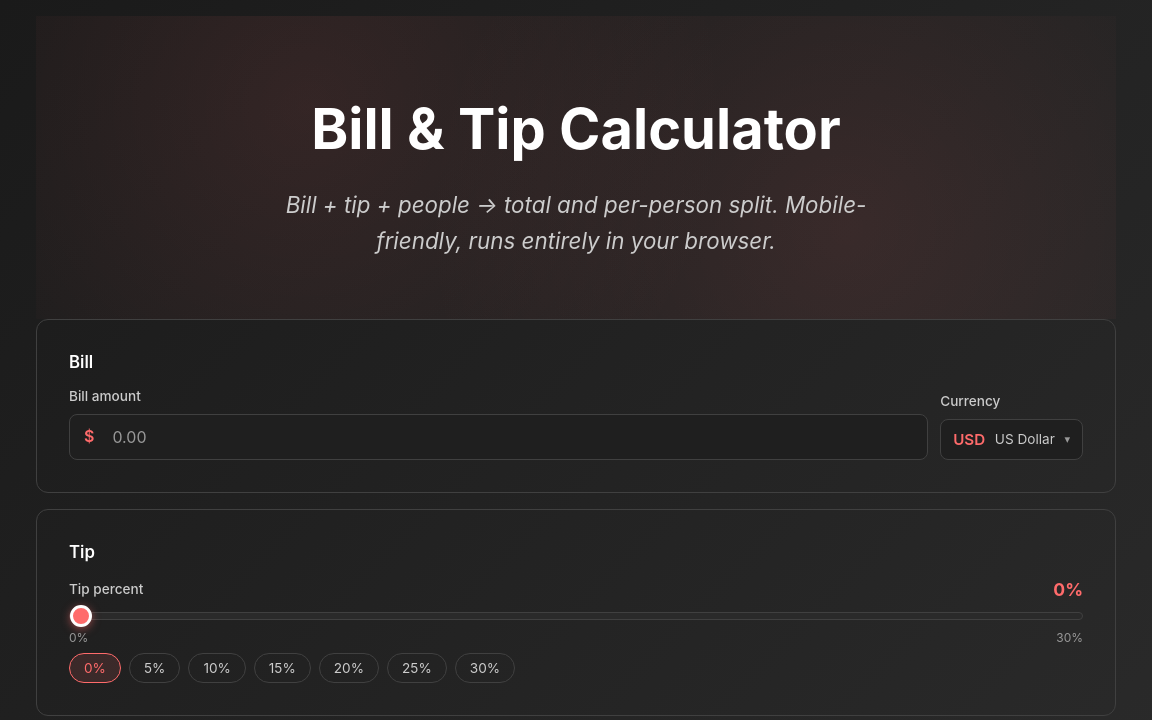
Test: <TipCalculator /> — page render › changing people slider updates per-person amount
Type "100" into the number field labelled "Bill amount" at (513, 437), box [98,415,927,459]
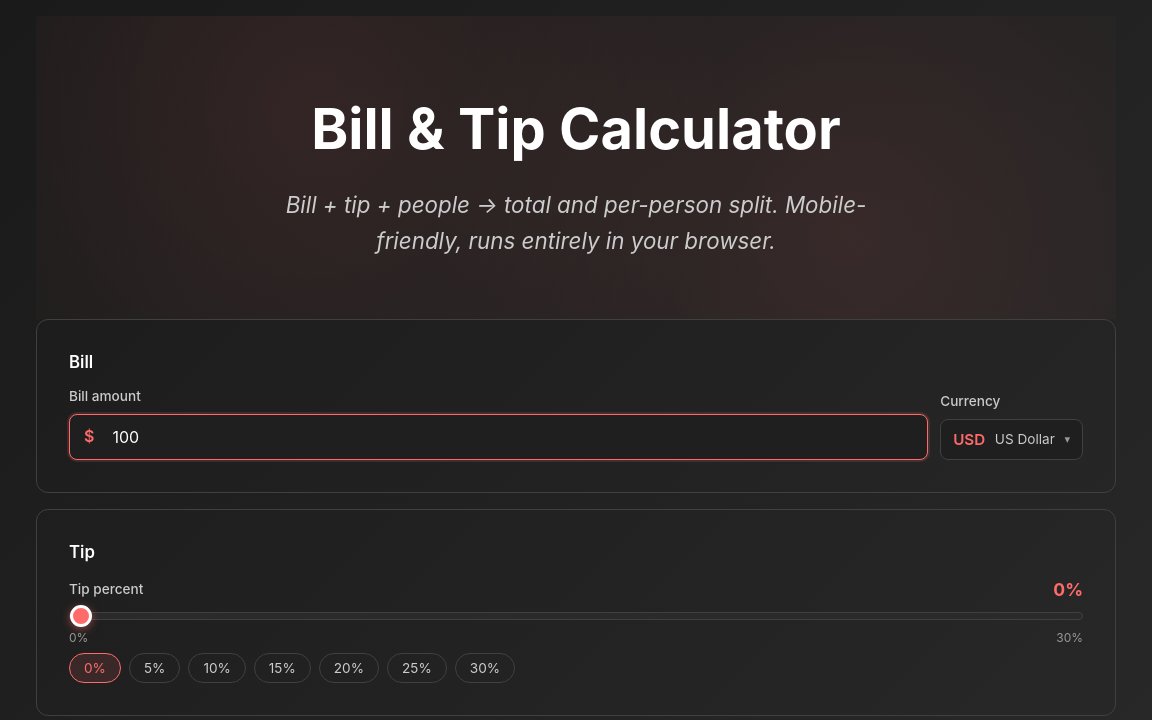
// Use the 20% preset to give the math a non-zero tip leg.
Click the button "20%" at (349, 668), box [319,653,379,683]
(page scrolled)
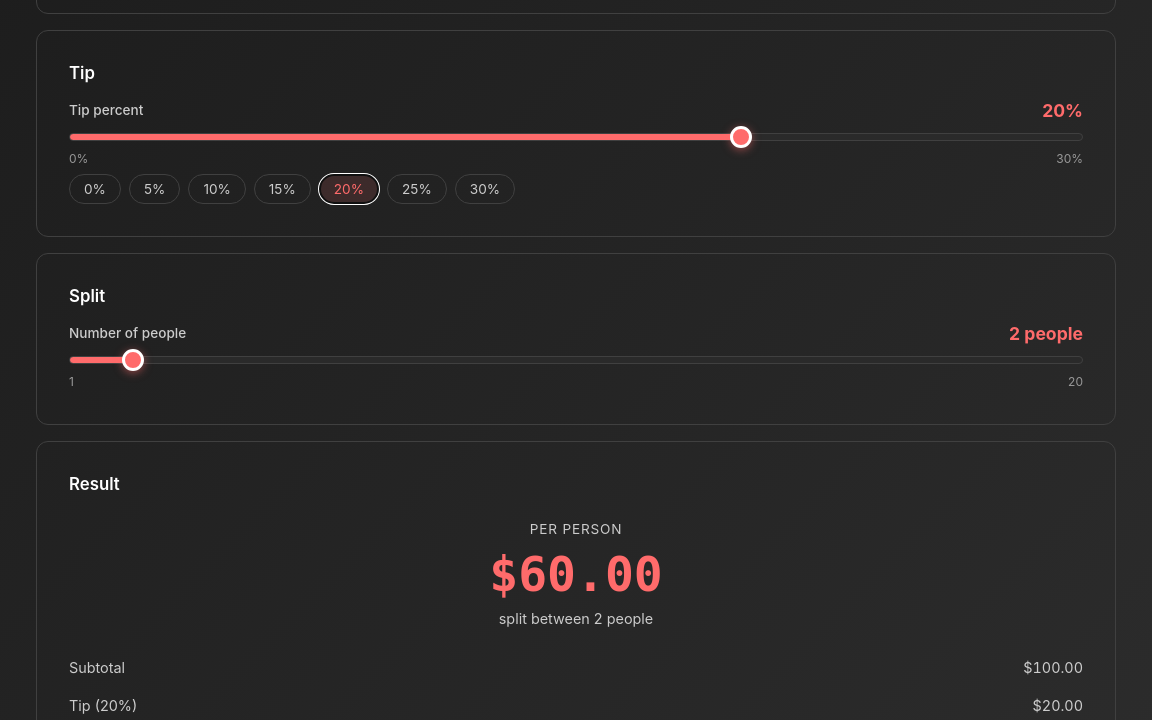
Set the slider labelled "Number of people" to "4" at (235, 360), box [69,356,1083,364]
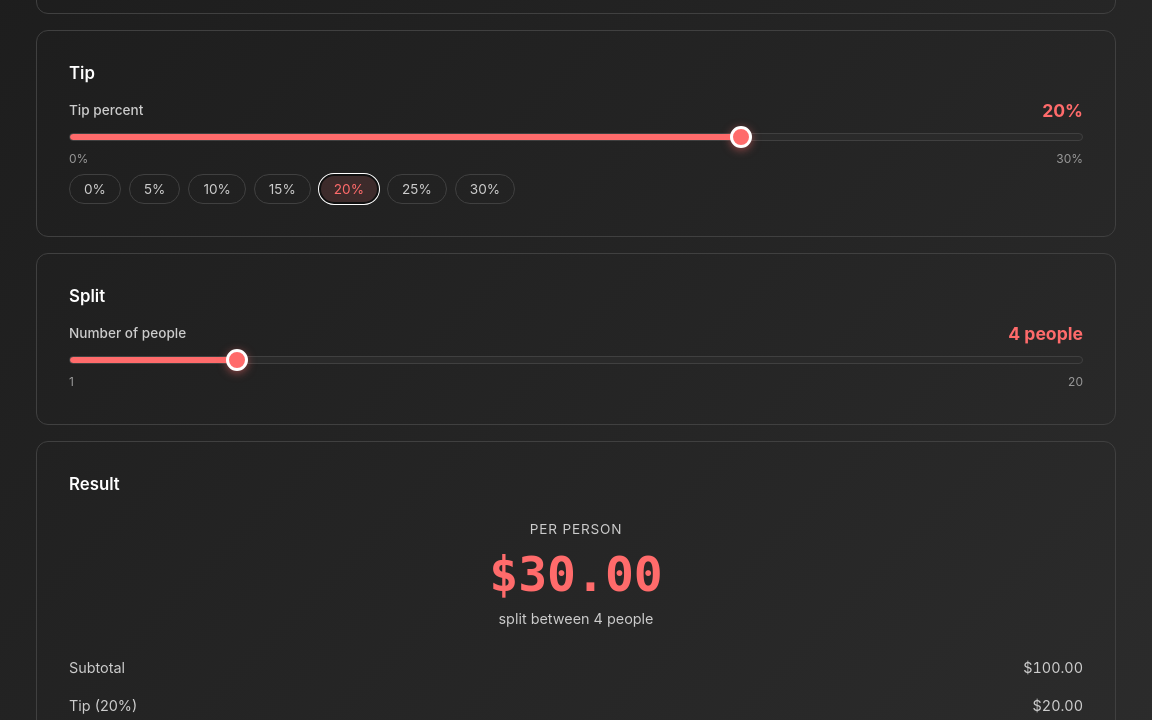
Now the text "$30.00" is shown, box [489,546,663,602]
